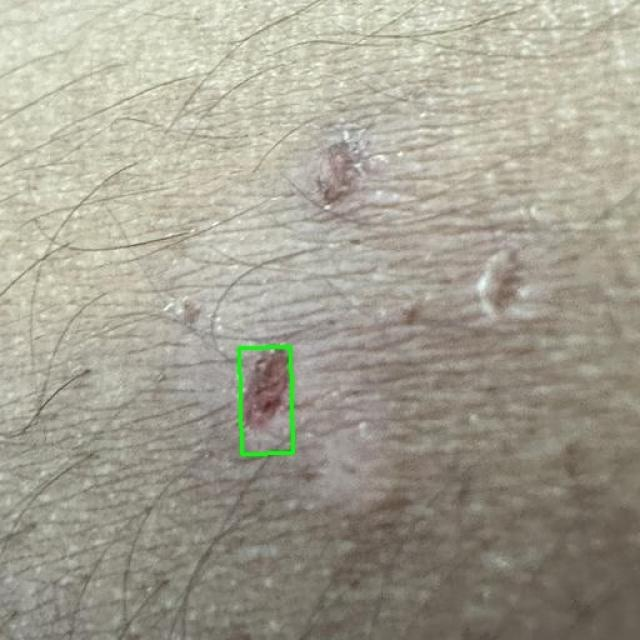Scabies: (240, 347, 293, 454)
